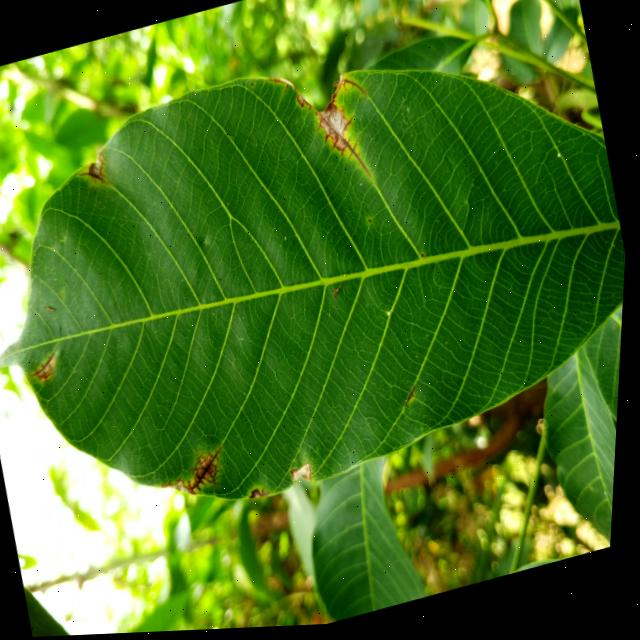Corynespora: (310, 99, 376, 191), (186, 445, 236, 496), (31, 350, 65, 386), (77, 152, 109, 186), (342, 75, 367, 101)
Leaf-Blight: (296, 466, 318, 486)
